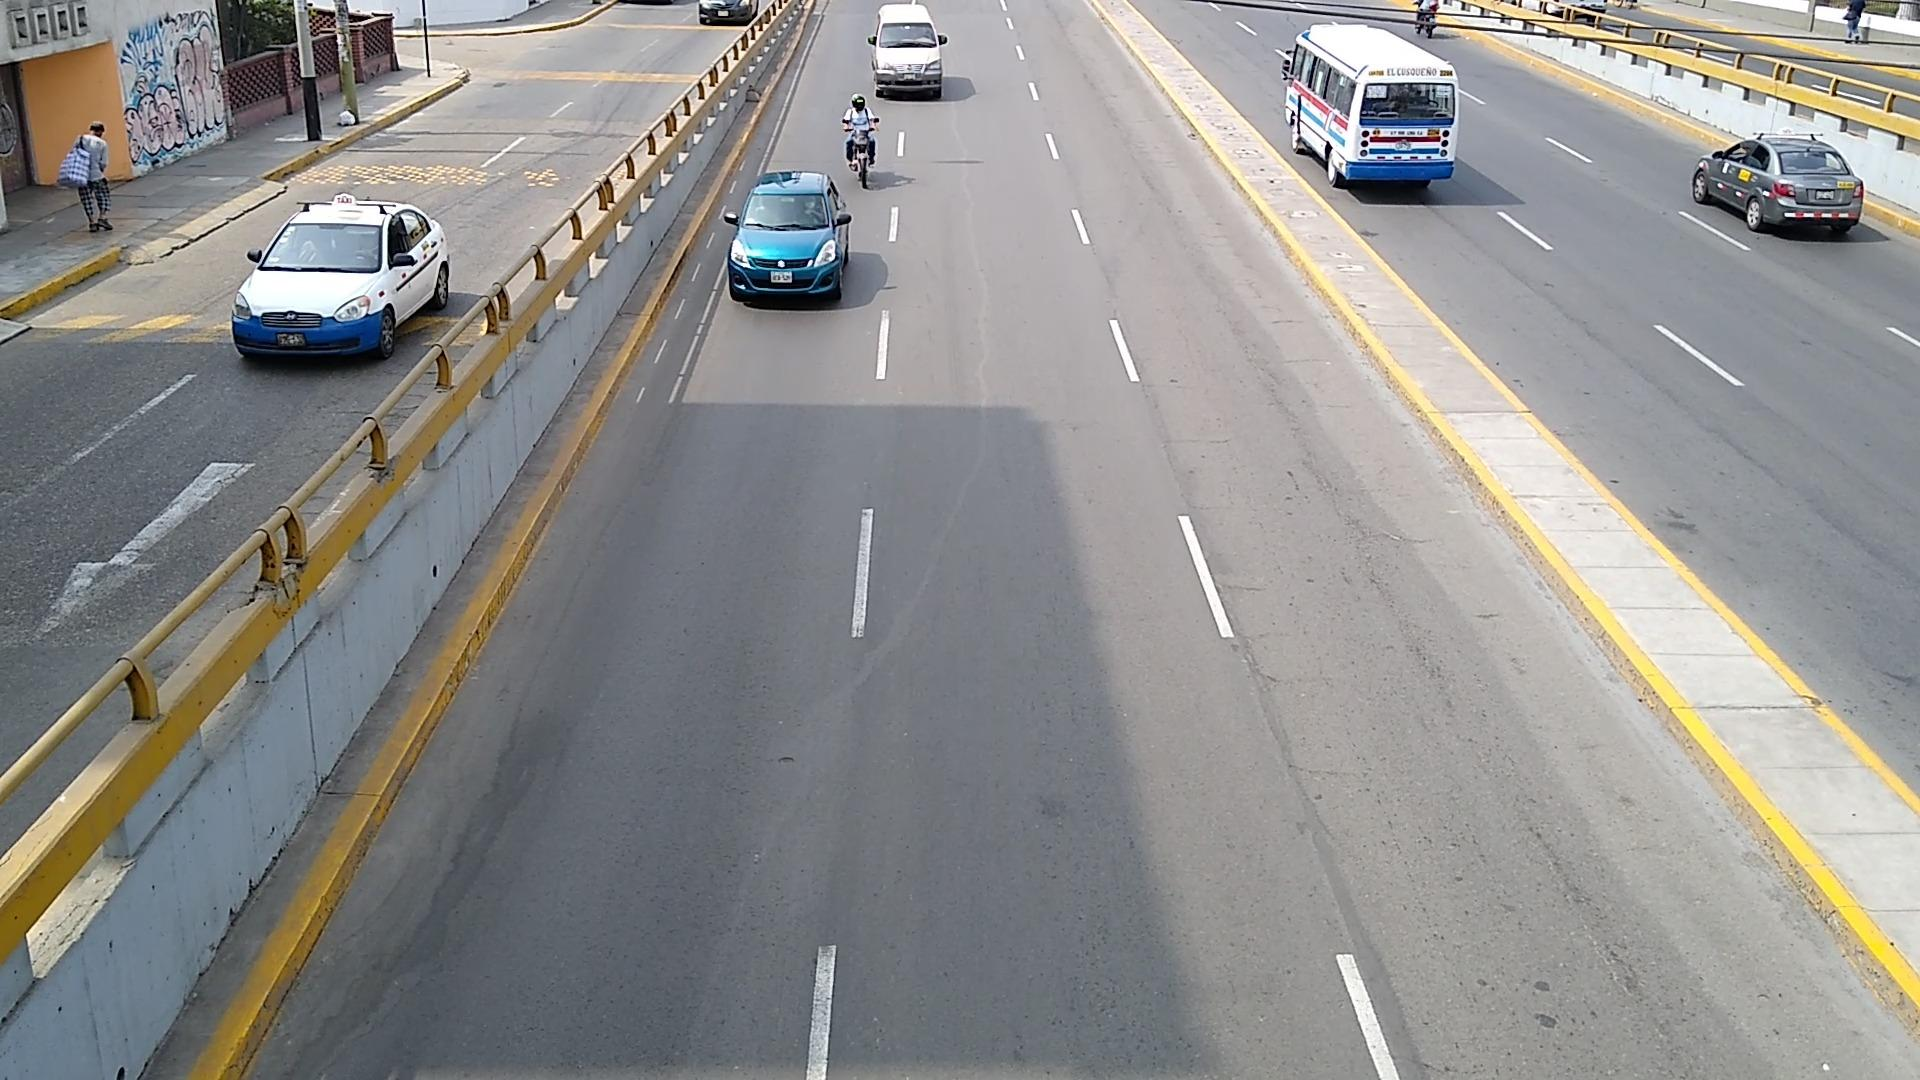bus: (1282, 22, 1459, 188)
car: (232, 195, 450, 360), (1691, 135, 1864, 236), (724, 169, 851, 298), (870, 4, 945, 98), (698, 0, 758, 26)
motorcyclist: (844, 94, 878, 167)
pedestrian: (56, 124, 112, 232)
